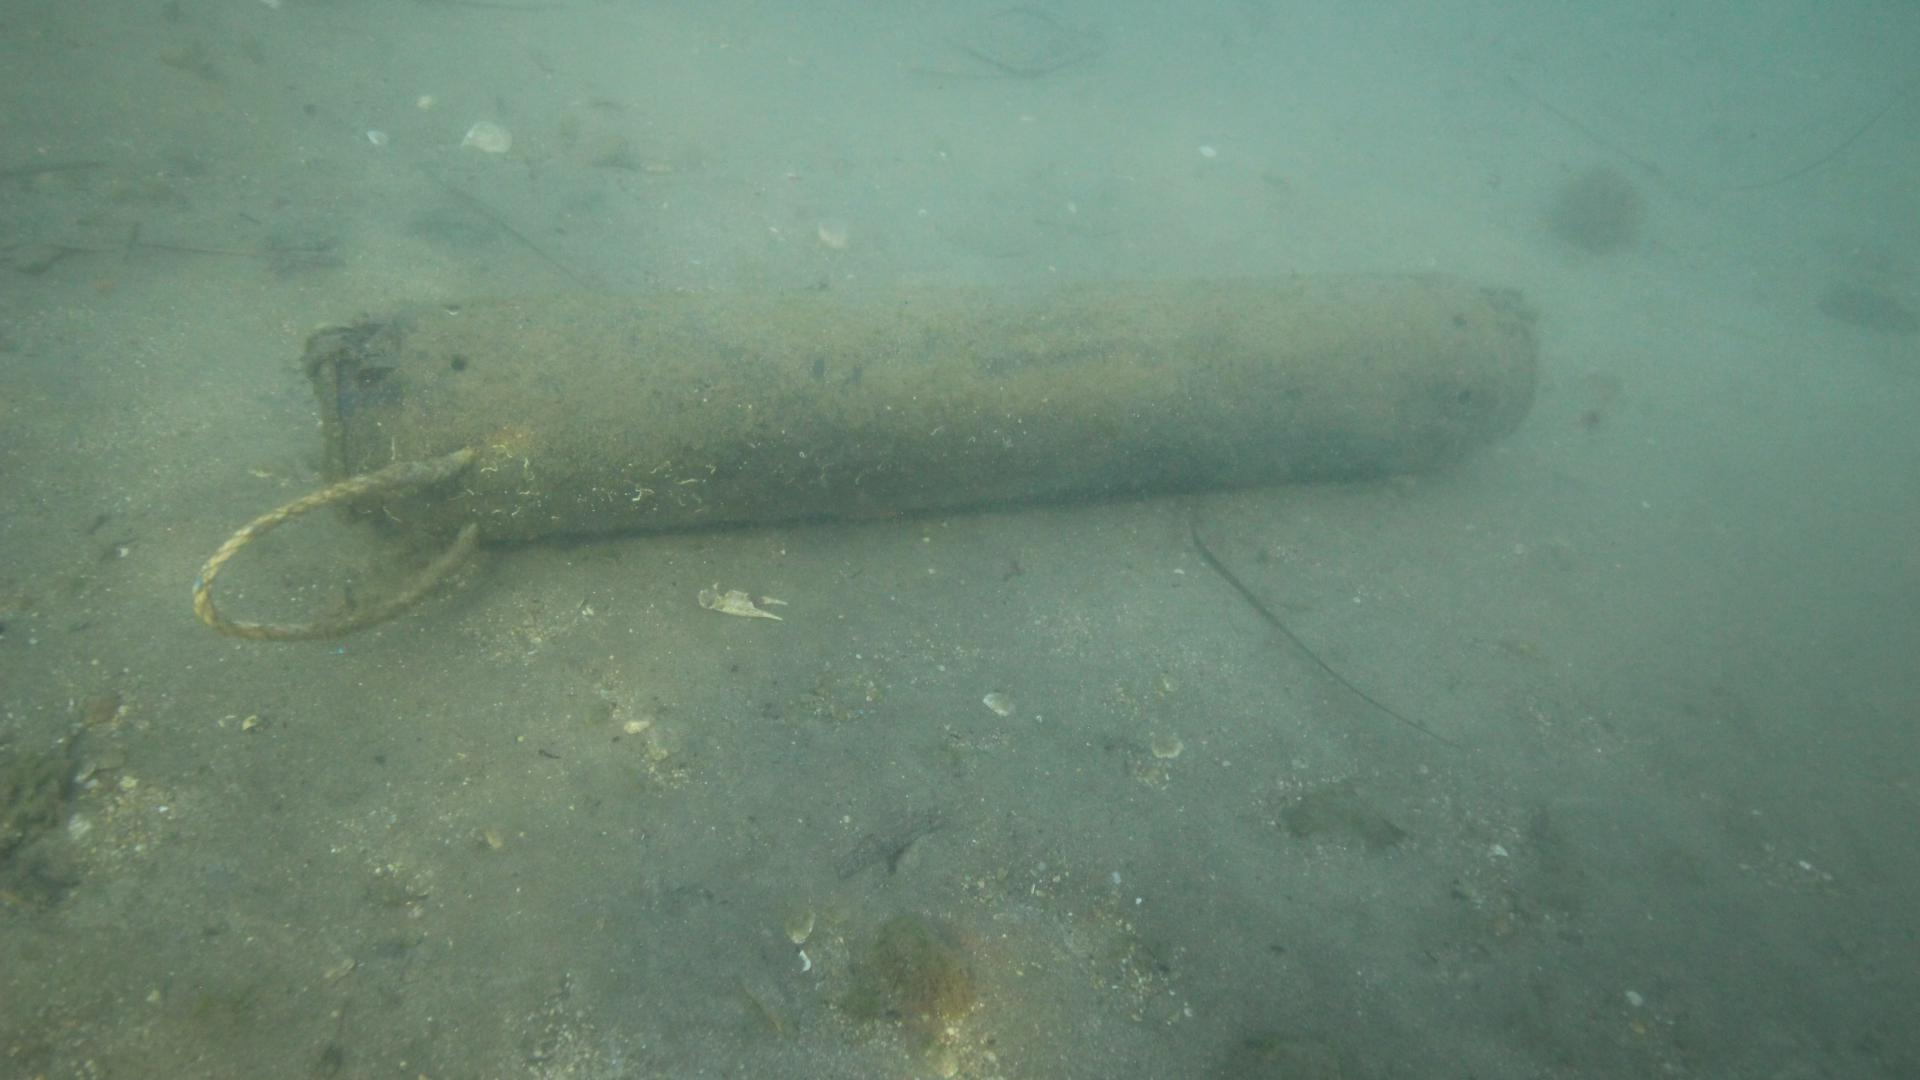eel fish trap: (310, 272, 1532, 541)
rope: (189, 444, 476, 640)
